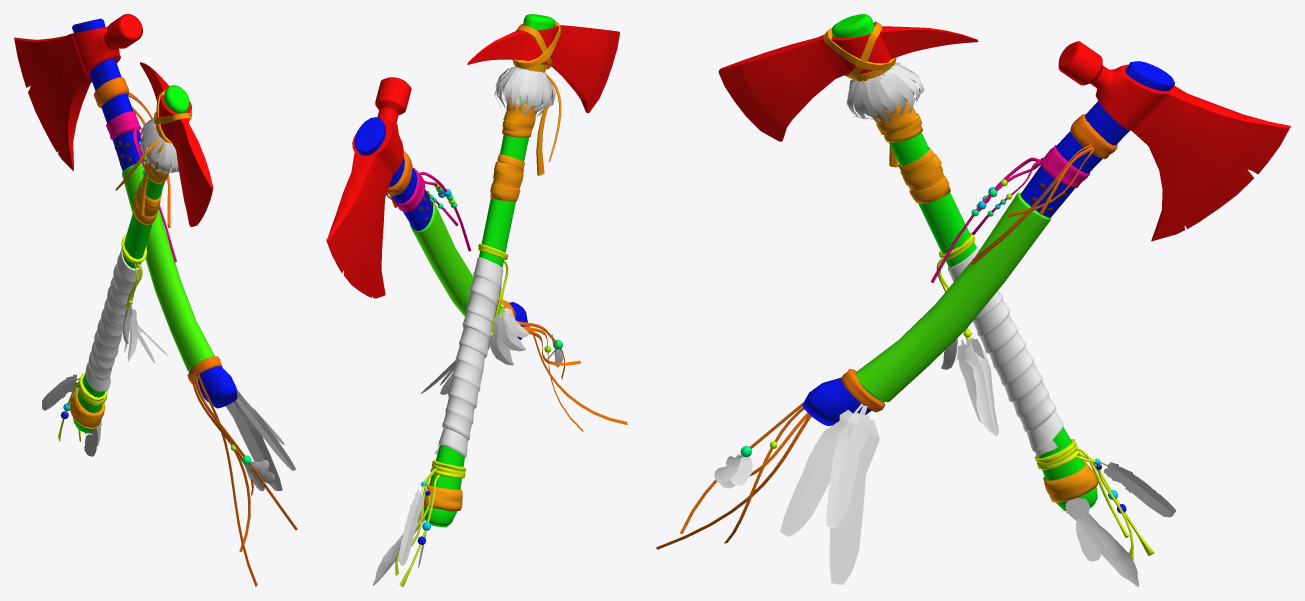
Rendered from Am_Indian_tribal_axes.fbx.
3 renders of one model, left to right at view 1: azimuth 30°, elevation 25°; view 2: azimuth 150°, elevation 25°; view 3: azimuth 270°, elevation 25°, orthographic. The views are drawn at different scales.
Parts seen in each view (by area): view 1: Axe_2_low, axe_1_low, axe_1_strap_low, axe_1_stripes_low, stripes_low, straps_low, feather_000.001, axe_1_fur_low, feather_000.002, feather_010.001; view 2: Axe_2_low, axe_1_low, axe_1_strap_low, axe_1_stripes_low, axe_1_fur_low, stripes_low, straps_low, feather_010.001, feather_005.002, feather_005.003, feather_003.001; view 3: Axe_2_low, axe_1_low, axe_1_stripes_low, axe_1_strap_low, stripes_low, feather_000.002, feather_000.001, axe_1_fur_low, feather_000.003, straps_low, feather_003.001, feather_002.001 (+2 smaller).
Part boxes in pixels (left/top/right/bottom): Axe_2_low: left=14, top=14, right=237, bottom=408; axe_1_low: left=58, top=62, right=213, bottom=441; axe_1_strap_low: left=85, top=248, right=142, bottom=391; axe_1_stripes_low: left=70, top=90, right=192, bottom=429; stripes_low: left=128, top=92, right=297, bottom=586; straps_low: left=94, top=77, right=222, bottom=384; feather_000.001: left=225, top=400, right=282, bottom=490; axe_1_fur_low: left=139, top=117, right=178, bottom=173; feather_000.002: left=236, top=389, right=295, bottom=470; feather_010.001: left=42, top=374, right=79, bottom=410; Axe_2_low: left=326, top=77, right=527, bottom=339; axe_1_low: left=395, top=14, right=619, bottom=586; axe_1_strap_low: left=434, top=257, right=503, bottom=457; axe_1_stripes_low: left=422, top=21, right=561, bottom=511; axe_1_fur_low: left=494, top=66, right=556, bottom=116; stripes_low: left=386, top=172, right=627, bottom=431; straps_low: left=387, top=151, right=515, bottom=319; feather_010.001: left=398, top=486, right=424, bottom=565; feather_005.002: left=495, top=308, right=525, bottom=351; feather_005.003: left=490, top=309, right=513, bottom=365; feather_003.001: left=373, top=509, right=425, bottom=585; Axe_2_low: left=802, top=41, right=1290, bottom=425; axe_1_low: left=718, top=14, right=1154, bottom=560; axe_1_stripes_low: left=823, top=21, right=1098, bottom=502; axe_1_strap_low: left=948, top=246, right=1063, bottom=457; stripes_low: left=656, top=144, right=1094, bottom=549; feather_000.002: left=780, top=403, right=862, bottom=536; feather_000.001: left=829, top=405, right=879, bottom=584; axe_1_fur_low: left=846, top=62, right=924, bottom=122; feather_000.003: left=826, top=405, right=871, bottom=528; straps_low: left=841, top=114, right=1117, bottom=412; feather_003.001: left=1065, top=498, right=1139, bottom=586; feather_002.001: left=964, top=340, right=998, bottom=435.
Size of the model in its own units: 0.228 by 0.7334 by 0.7669.
